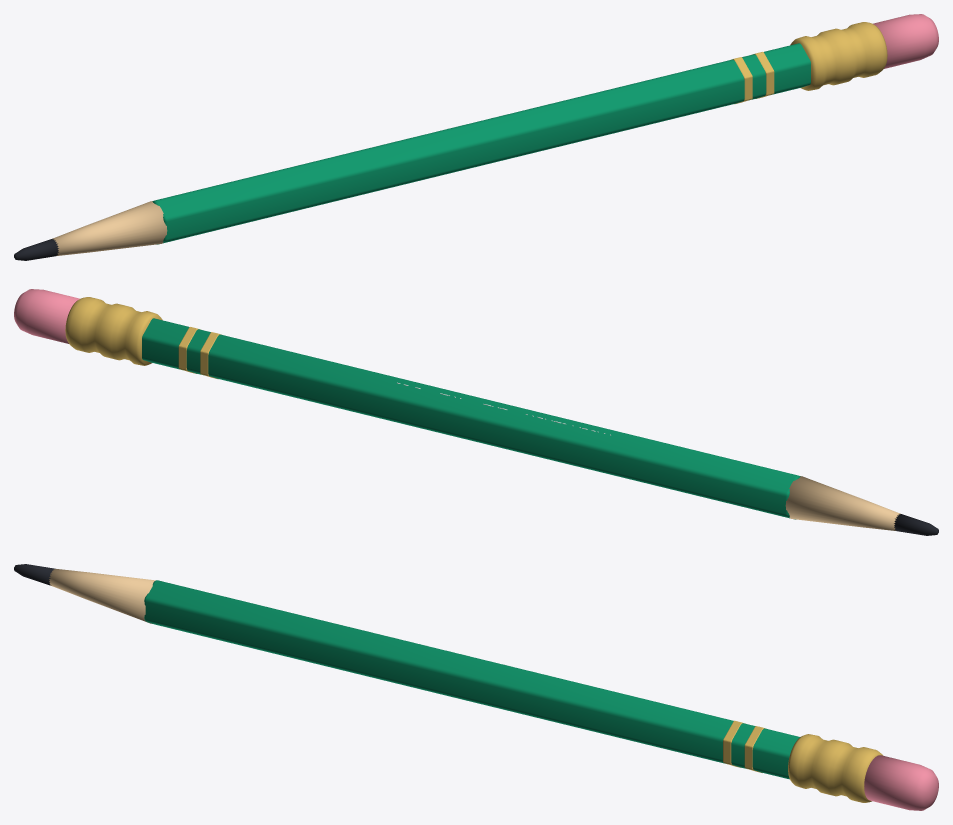
File: pencil.glb
The picture shows the model from 3 angles, top to bottom: view 1: azimuth 30°, elevation 25°; view 2: azimuth 150°, elevation 25°; view 3: azimuth 330°, elevation 25°; orthographic projection.
Parts seen in each view (by area): view 1: Body, Ferrule, Wood, Eraser, Lead; view 2: Body, Ferrule, Wood, Eraser, Lead; view 3: Body, Ferrule, Eraser, Wood, Lead.
Boxes of the visible parts, x1,y1,x2,y2 form: Body: [152, 43, 810, 244]; Ferrule: [790, 22, 887, 90]; Wood: [52, 201, 167, 255]; Eraser: [873, 14, 938, 68]; Lead: [14, 239, 58, 260]; Body: [142, 318, 800, 519]; Ferrule: [65, 297, 162, 365]; Wood: [785, 476, 900, 530]; Eraser: [14, 289, 79, 343]; Lead: [894, 514, 938, 535]; Body: [144, 580, 799, 779]; Ferrule: [788, 734, 882, 802]; Eraser: [864, 755, 938, 810]; Wood: [49, 569, 161, 623]; Lead: [14, 564, 55, 585].
Size of the model in its own units: 4.27 by 0.22 by 0.22.
